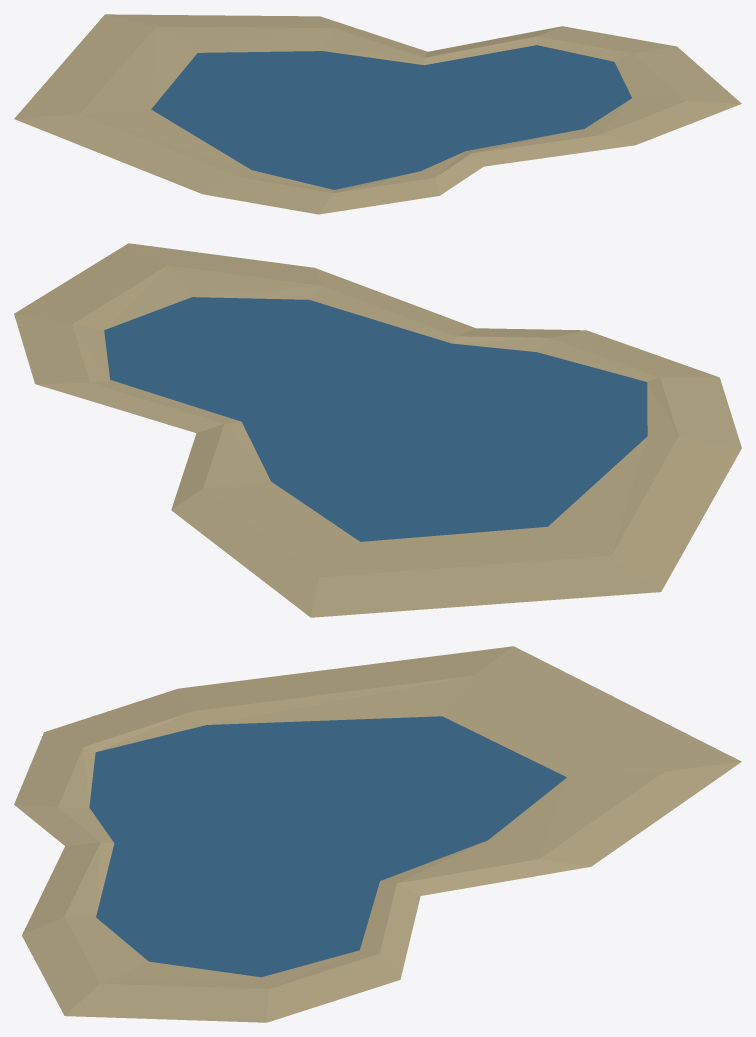
Rendered from Water_02.FBX.
The picture shows the model from 3 angles, top to bottom: view 1: azimuth 30°, elevation 25°; view 2: azimuth 150°, elevation 25°; view 3: azimuth 270°, elevation 25°; orthographic projection. The views are drawn at different scales.
Visible parts, largest first — view 1: Water_02; view 2: Water_02; view 3: Water_02.
Boxes of the visible parts, <box> form: Water_02: <box>14,14,741,214</box>; Water_02: <box>14,243,741,617</box>; Water_02: <box>14,646,741,1022</box>.
Bounding box in the file's own units: 8.71 × 0.05 × 7.11.
